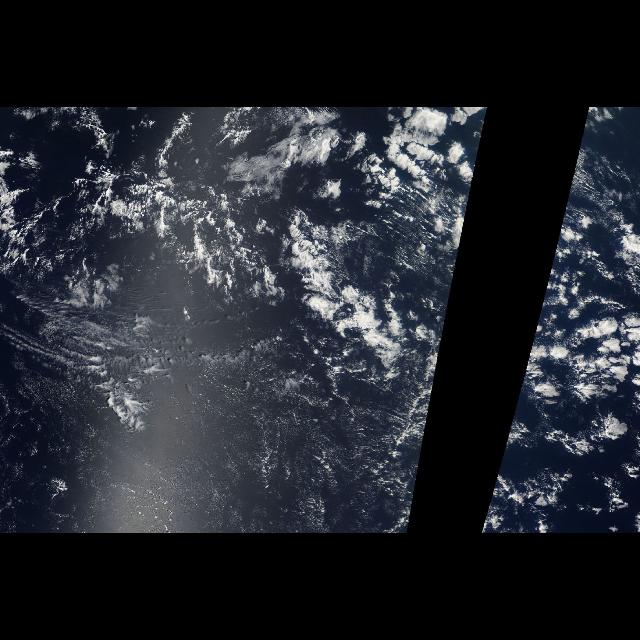Fish: (276, 225, 404, 371)
Sugar: (4, 353, 388, 533)
